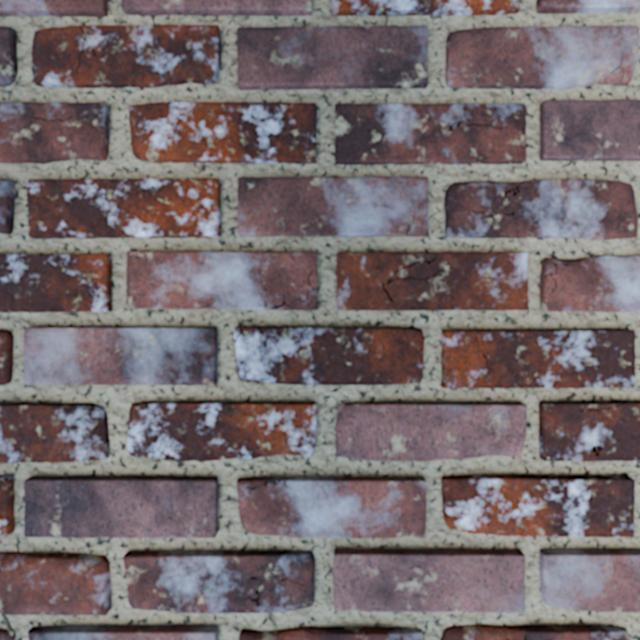brick: (237, 26, 427, 89), (446, 26, 638, 88), (334, 549, 523, 611), (25, 476, 217, 537), (32, 25, 220, 87), (442, 475, 633, 536), (124, 551, 313, 612), (335, 103, 525, 163), (27, 178, 220, 237), (237, 477, 425, 537), (128, 102, 315, 162), (445, 180, 637, 238), (238, 177, 427, 235), (24, 327, 216, 384), (442, 330, 634, 387), (128, 402, 315, 460), (336, 403, 525, 460), (337, 253, 527, 309), (236, 327, 422, 384), (127, 252, 316, 308), (0, 102, 108, 162), (0, 403, 108, 461), (0, 255, 111, 311), (540, 550, 639, 611), (540, 100, 639, 160), (539, 402, 639, 460), (540, 255, 639, 311), (121, 0, 310, 15), (442, 625, 629, 639), (332, 0, 518, 14), (28, 626, 216, 639), (239, 627, 422, 639), (0, 0, 106, 15), (537, 0, 639, 12), (0, 25, 18, 87), (0, 475, 15, 536), (0, 178, 15, 234), (0, 329, 14, 385), (278, 291, 316, 309), (0, 629, 10, 639), (234, 327, 238, 335)
broken_brick: (0, 551, 111, 615)
crack: (262, 269, 317, 310), (75, 25, 99, 75), (258, 326, 287, 358), (475, 331, 488, 368), (577, 402, 624, 412), (404, 198, 416, 235), (0, 612, 16, 639), (234, 326, 243, 343), (424, 231, 429, 235), (523, 634, 526, 639)
